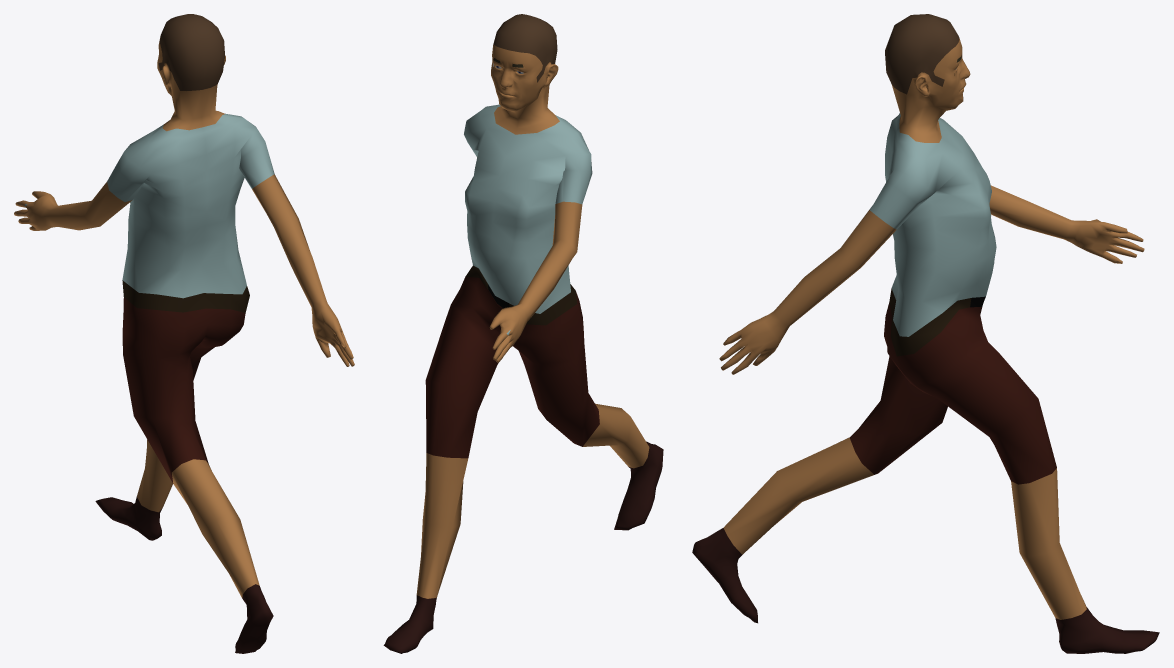
File: person2_000006.obj
3 renders of one model, left to right at view 1: azimuth 30°, elevation 25°; view 2: azimuth 150°, elevation 25°; view 3: azimuth 270°, elevation 25°, orthographic. The views are drawn at different scales.
Parts seen in each view (by area): view 1: Cube; view 2: Cube; view 3: Cube.
Boxes of the visible parts, x1,y1,x2,y2 form: Cube: (14, 14, 354, 653); Cube: (383, 14, 663, 653); Cube: (692, 14, 1159, 653).
Bounding box in the file's own units: 24.87 × 89.79 × 61.42.
